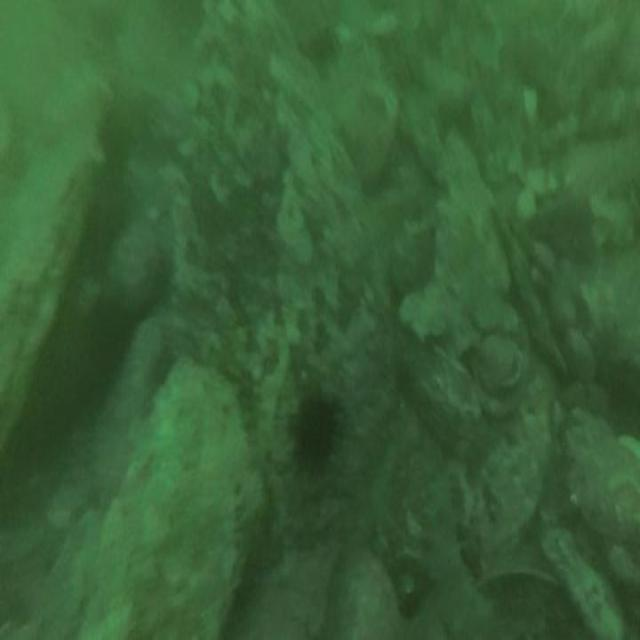echinus: (84, 290, 132, 386), (87, 188, 126, 262), (292, 400, 334, 466), (98, 109, 134, 168)
